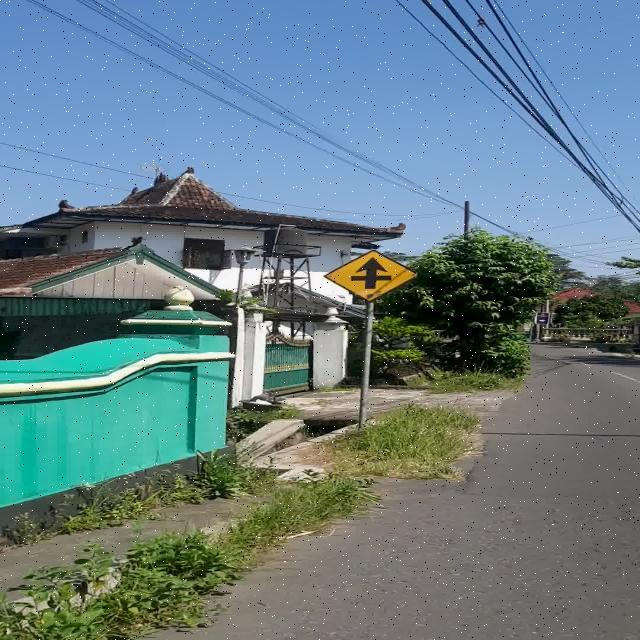Persimpangan 3 Prioritas: (323, 250, 417, 302)
